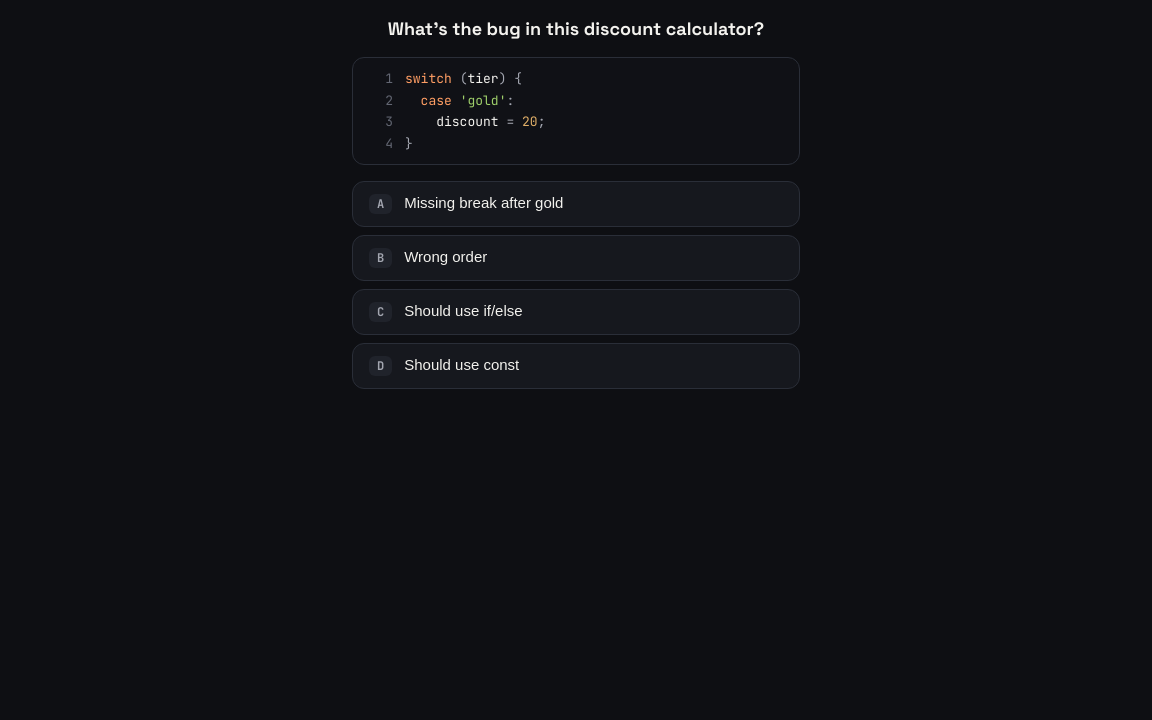
it: PuzzleCardShell › click-meaningfulness: continueDestination="results" previews "See results" instead of the default
This screenshot has width=1152, height=720.
Click the button "A Missing break after gold" at (484, 203), box x1=352 y1=181 x2=800 y2=227
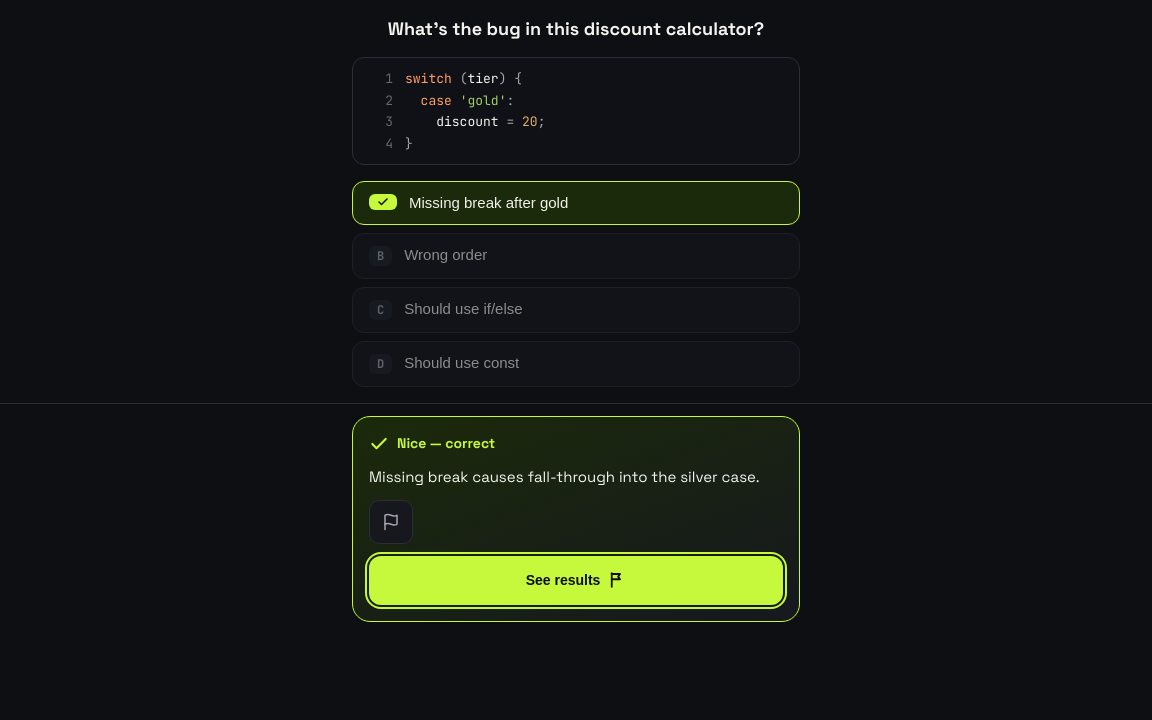
Expected: the button "See results" is shown, x1=369 y1=556 x2=783 y2=605
